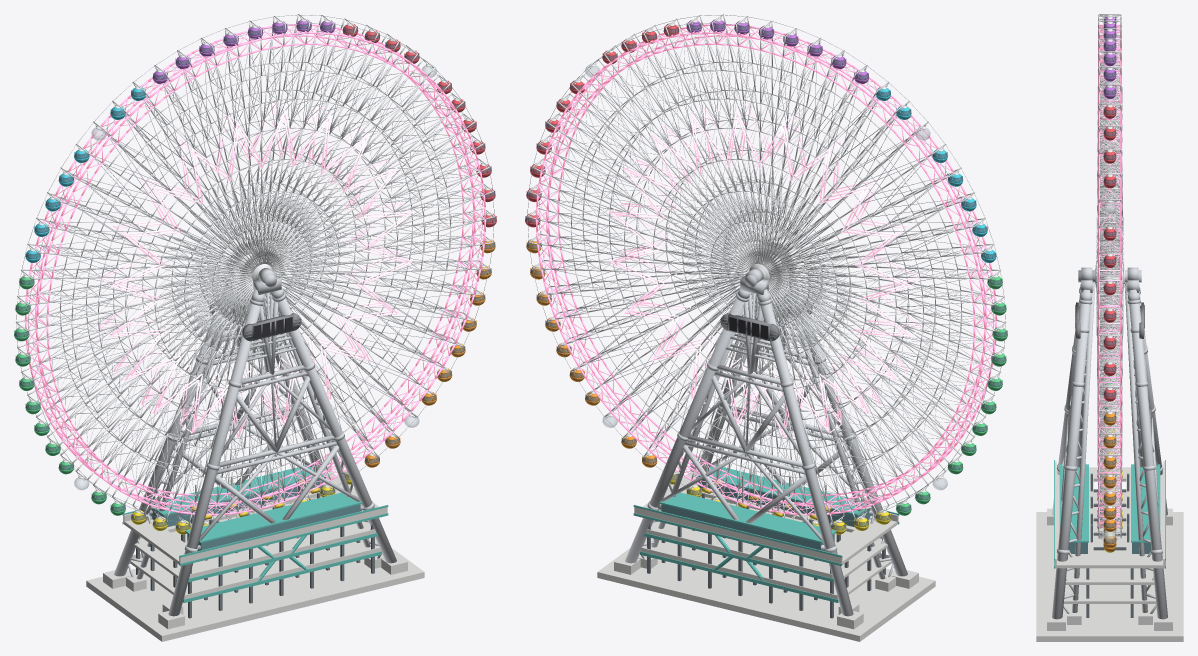
The model's file is CosmoClock21.glb.
The picture shows the model from 3 angles, left to right: view 1: azimuth 30°, elevation 25°; view 2: azimuth 150°, elevation 25°; view 3: azimuth 270°, elevation 25°; orthographic projection. The views are drawn at different scales.
Visible parts, largest first — view 1: Wheel_Spokes_and_Rings_White, Wheel_Tension_Cables, Tower_AFrame_Steel, Terminal_Decks_Concrete, Wheel_Outer_Rim_Magenta, Wheel_Star_Zigzag_Pink, Terminal_Teal_Structure, Terminal_Boarding_Glass, Terminal_Steel_Columns, Clock_Panel_Body; view 2: Wheel_Spokes_and_Rings_White, Wheel_Tension_Cables, Tower_AFrame_Steel, Terminal_Decks_Concrete, Wheel_Outer_Rim_Magenta, Wheel_Star_Zigzag_Pink, Terminal_Teal_Structure, Terminal_Boarding_Glass, Terminal_Steel_Columns, Clock_Panel_Body; view 3: Terminal_Decks_Concrete, Tower_AFrame_Steel, Wheel_Spokes_and_Rings_White, Wheel_Outer_Rim_Magenta, Terminal_Teal_Structure, Wheel_Tension_Cables, Terminal_Steel_Columns, Wheel_Star_Zigzag_Pink, Terminal_Boarding_Glass, Clock_Panel_Body.
Part boxes in pixels (box(x1,y1,x2,y2)): Wheel_Spokes_and_Rings_White: box(16, 14, 494, 524); Wheel_Tension_Cables: box(16, 15, 494, 524); Tower_AFrame_Steel: box(114, 251, 396, 616); Terminal_Decks_Concrete: box(86, 458, 424, 641); Wheel_Outer_Rim_Magenta: box(24, 24, 486, 515); Wheel_Star_Zigzag_Pink: box(100, 101, 412, 437); Terminal_Teal_Structure: box(122, 463, 388, 602); Terminal_Boarding_Glass: box(150, 479, 360, 551); Terminal_Steel_Columns: box(136, 479, 374, 618); Clock_Panel_Body: box(209, 293, 301, 341); Wheel_Spokes_and_Rings_White: box(527, 14, 1005, 524); Wheel_Tension_Cables: box(527, 15, 1005, 524); Tower_AFrame_Steel: box(625, 251, 907, 616); Terminal_Decks_Concrete: box(597, 458, 935, 641); Wheel_Outer_Rim_Magenta: box(535, 24, 997, 515); Wheel_Star_Zigzag_Pink: box(609, 101, 922, 437); Terminal_Teal_Structure: box(633, 463, 899, 602); Terminal_Boarding_Glass: box(661, 479, 871, 551); Terminal_Steel_Columns: box(647, 479, 885, 618); Clock_Panel_Body: box(720, 297, 812, 341); Terminal_Decks_Concrete: box(1036, 461, 1183, 641); Tower_AFrame_Steel: box(1052, 267, 1167, 619); Wheel_Spokes_and_Rings_White: box(1095, 14, 1124, 538); Wheel_Outer_Rim_Magenta: box(1098, 24, 1121, 527); Terminal_Teal_Structure: box(1054, 460, 1165, 568); Wheel_Tension_Cables: box(1098, 15, 1121, 536); Terminal_Steel_Columns: box(1086, 473, 1133, 617); Wheel_Star_Zigzag_Pink: box(1097, 105, 1122, 446); Terminal_Boarding_Glass: box(1068, 542, 1151, 553); Clock_Panel_Body: box(1075, 302, 1144, 338).
Bounding box in the file's own units: 103 × 114 × 28.
